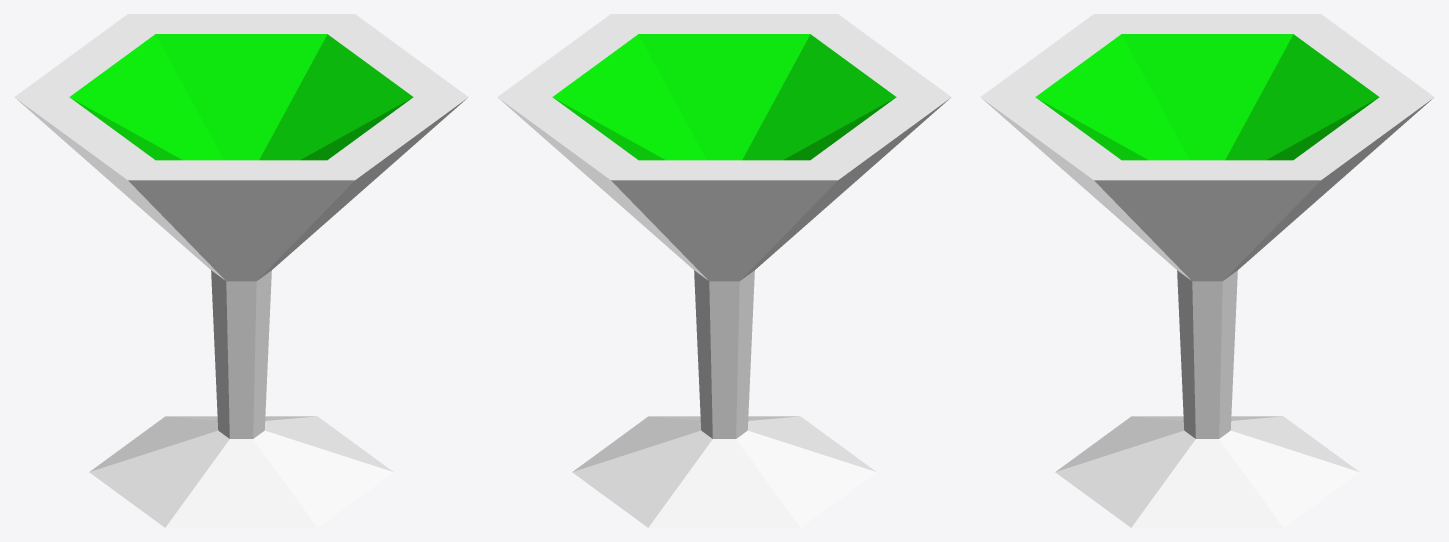
The model's file is Green_glass.fbx.
The picture shows the model from 3 angles, left to right: view 1: azimuth 30°, elevation 25°; view 2: azimuth 150°, elevation 25°; view 3: azimuth 270°, elevation 25°; orthographic projection.
Visible parts, largest first — view 1: Cylinder.004; view 2: Cylinder.004; view 3: Cylinder.004.
Part boxes in pixels (x1,y1,x2,y2): Cylinder.004: (14,14,468,527); Cylinder.004: (497,14,951,527); Cylinder.004: (980,14,1434,527).
Bounding box in the file's own units: 97.71 × 103 × 113.
